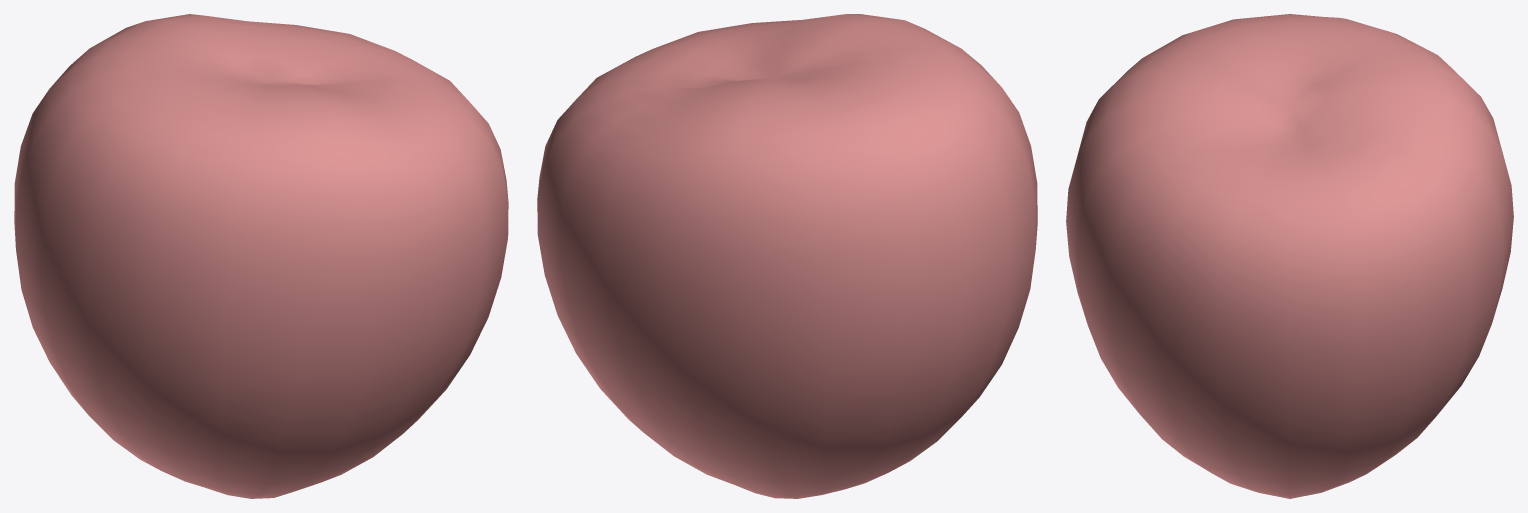
Rendered from fraise.fbx.
The picture shows the model from 3 angles, left to right: view 1: azimuth 30°, elevation 25°; view 2: azimuth 150°, elevation 25°; view 3: azimuth 270°, elevation 25°; orthographic projection. The views are drawn at different scales.
Visible parts, largest first — view 1: pSphere3; view 2: pSphere3; view 3: pSphere3.
Boxes of the visible parts, box(x1,y1,x2,y2) form: pSphere3: box(14, 14, 508, 498); pSphere3: box(537, 14, 1037, 498); pSphere3: box(1066, 14, 1513, 498).
Size of the model in its own units: 0.6507 by 0.6063 by 0.6014.
